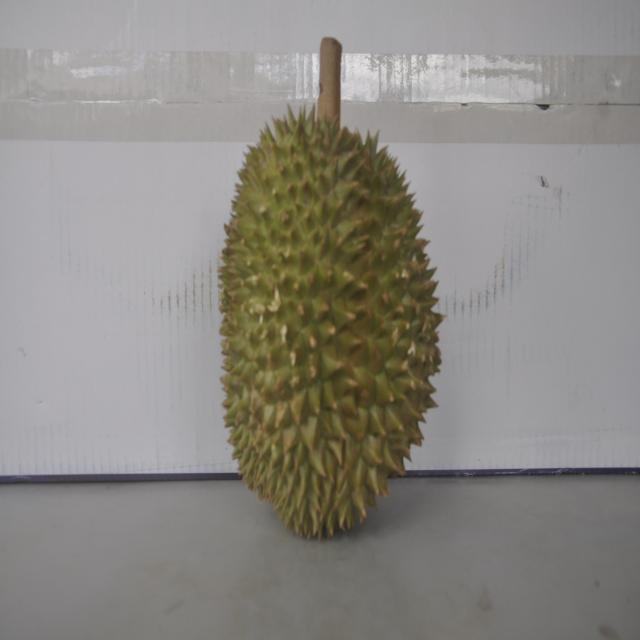mature: (219, 109, 441, 538)
